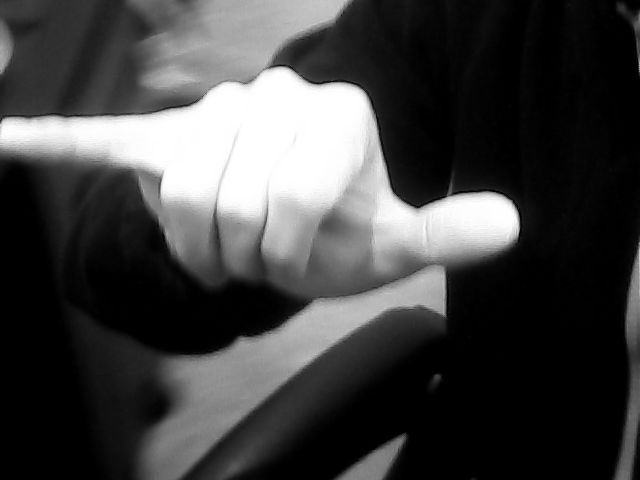aloha: (1, 65, 524, 304)
